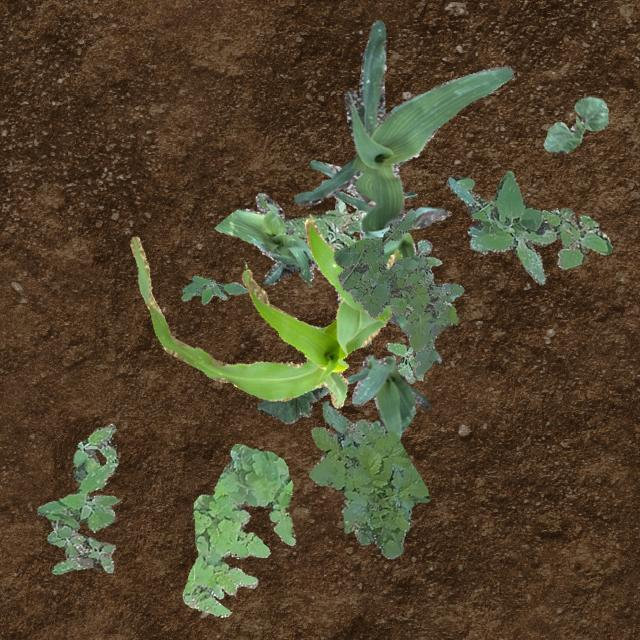crop: (130, 214, 400, 406), (294, 19, 512, 238), (308, 158, 441, 362), (214, 192, 370, 346), (316, 354, 429, 438), (542, 96, 606, 152), (255, 386, 321, 422), (334, 198, 366, 232), (340, 186, 416, 198)
weed: (332, 208, 462, 374), (182, 442, 294, 616), (307, 400, 428, 558), (446, 170, 578, 284), (36, 422, 118, 574), (550, 206, 612, 268), (282, 208, 356, 250), (180, 274, 247, 304), (384, 342, 422, 382), (414, 238, 440, 278)
